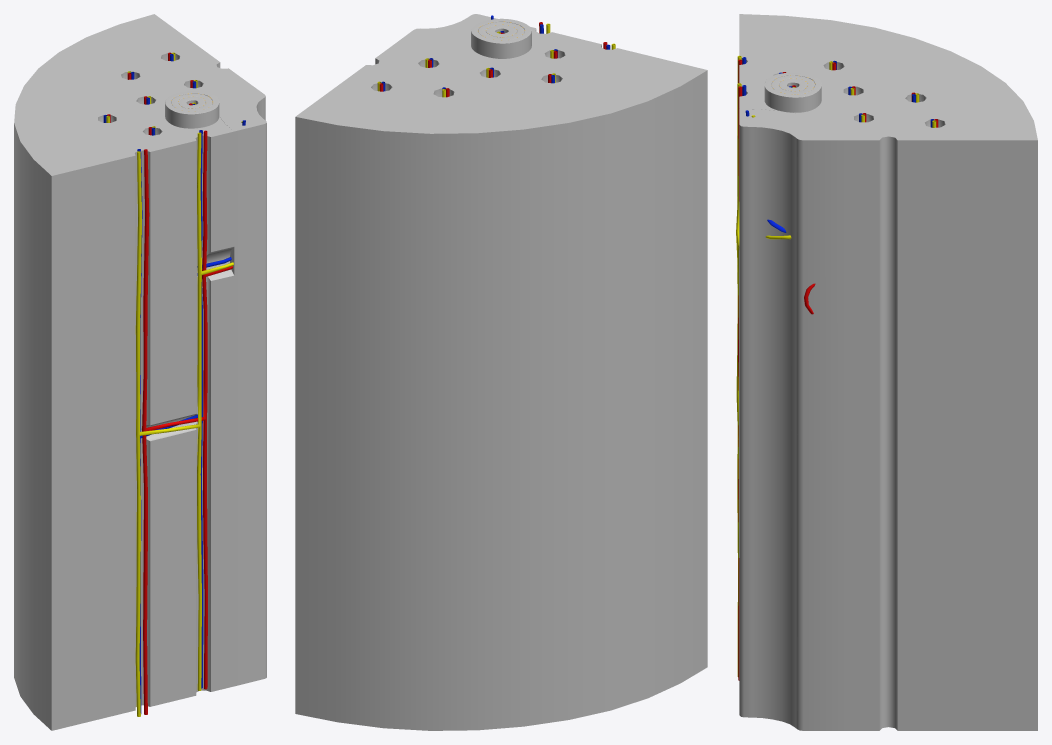
The model's file is Bone.fbx.
The picture shows the model from 3 angles, left to right: view 1: azimuth 30°, elevation 25°; view 2: azimuth 150°, elevation 25°; view 3: azimuth 270°, elevation 25°; orthographic projection. The views are drawn at different scales.
Visible parts, largest first — view 1: compact_bone, spongy_bone1, nerve3, nerve2, nerve1, lamellae1, nerve; view 2: compact_bone, spongy_bone1, lamellae1; view 3: compact_bone, spongy_bone1, lamellae1, nerve3, nerve2.
Boxes of the visible parts, x1=… form: compact_bone: x1=14, y1=14, x2=243, y2=730; spongy_bone1: x1=217, y1=80, x2=266, y2=686; nerve3: x1=135, y1=121, x2=242, y2=716; nerve2: x1=142, y1=130, x2=232, y2=714; nerve1: x1=137, y1=120, x2=245, y2=713; lamellae1: x1=165, y1=91, x2=219, y2=128; nerve: x1=103, y1=52, x2=197, y2=135; compact_bone: x1=295, y1=27, x2=707, y2=730; spongy_bone1: x1=392, y1=14, x2=497, y2=48; lamellae1: x1=471, y1=18, x2=531, y2=58; compact_bone: x1=739, y1=14, x2=1037, y2=730; spongy_bone1: x1=739, y1=109, x2=845, y2=730; lamellae1: x1=764, y1=72, x2=821, y2=112; nerve3: x1=736, y1=55, x2=791, y2=676; nerve2: x1=738, y1=59, x2=815, y2=680.
Size of the model in its own units: 11.94 by 26.95 by 11.93.
